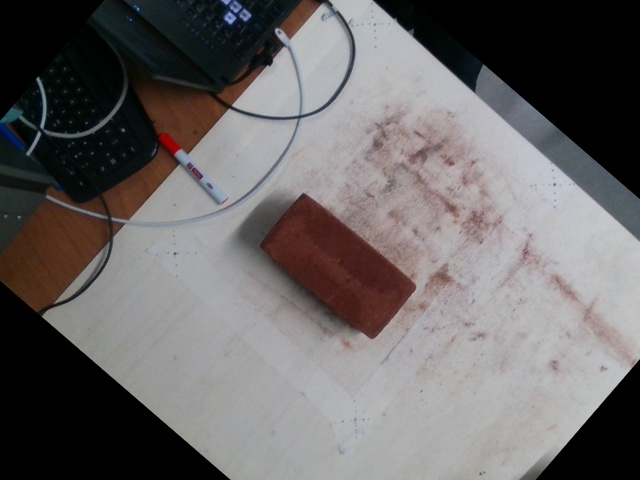brick: (259, 192, 417, 338)
